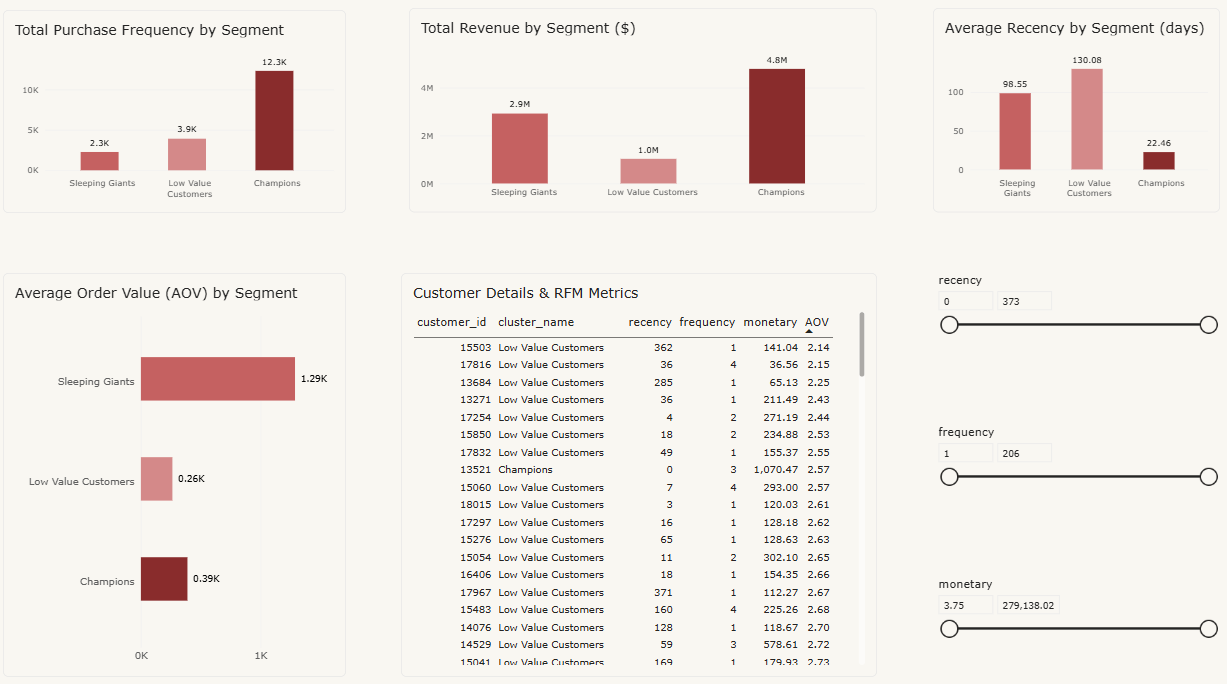

This screenshot's page, from the dashboard's own definition file:
{"tool":"powerbi","page":{"name":"Customer Segmentation","canvas":[1920,1080],"ordinal":1},"visuals":[{"type":"clusteredColumnChart","title":"Total Purchase Frequency by Segment","fields":{"Category":["clusters.cluster_name"],"Y":["Sum(customers_with_clusters.frequency)"]},"box":[90,95,490,290],"z":0},{"type":"clusteredColumnChart","title":"Total Revenue by Segment ($)","fields":{"Category":["clusters.cluster_name"],"Y":["Sum(customers_with_clusters.monetary)"]},"box":[670,93.3,668.3,291.7],"z":1000},{"type":"clusteredColumnChart","title":"Average Recency by Segment (days)","fields":{"Category":["clusters.cluster_name"],"Y":["Avg(customers_with_clusters.recency)"]},"box":[1418.3,93.3,410,291.7],"z":2000},{"type":"clusteredBarChart","title":"Average Order Value (AOV) by Segment","fields":{"Category":["clusters.cluster_name"],"Y":["_calculations.AOV"]},"box":[90,471.7,490,576.7],"z":3000},{"type":"tableEx","title":"Customer Details & RFM Metrics","fields":{"Values":["customers_with_clusters.customer_id","clusters.cluster_name","customers_with_clusters.recency","customers_with_clusters.frequency","customers_with_clusters.monetary","customers_with_clusters.avg_order_value"]},"box":[658.3,471.7,680,576.7],"z":4000},{"type":"slicer","fields":{"Values":["customers_with_clusters.recency"]},"box":[1418.6,471.4,410,143.3],"z":5000},{"type":"slicer","fields":{"Values":["customers_with_clusters.frequency"]},"box":[1418.6,688.6,410,143.3],"z":6000},{"type":"slicer","fields":{"Values":["customers_with_clusters.monetary"]},"box":[1418.6,905.7,410,143.3],"z":7000}]}

Visuals, with their boxes in screenshot pixels (x1, y1, x2, y2), scaled from the page's 1920x1080 canvas onto the 1227x684 screenshot:
"Total Purchase Frequency by Segment" clusteredColumnChart: left=58, top=60, right=371, bottom=244
"Total Revenue by Segment ($)" clusteredColumnChart: left=428, top=59, right=855, bottom=244
"Average Recency by Segment (days)" clusteredColumnChart: left=906, top=59, right=1168, bottom=244
"Average Order Value (AOV) by Segment" clusteredBarChart: left=58, top=299, right=371, bottom=664
"Customer Details & RFM Metrics" tableEx: left=421, top=299, right=855, bottom=664
slicer - customers_with_clusters.recency: left=907, top=299, right=1169, bottom=389
slicer - customers_with_clusters.frequency: left=907, top=436, right=1169, bottom=527
slicer - customers_with_clusters.monetary: left=907, top=574, right=1169, bottom=664
